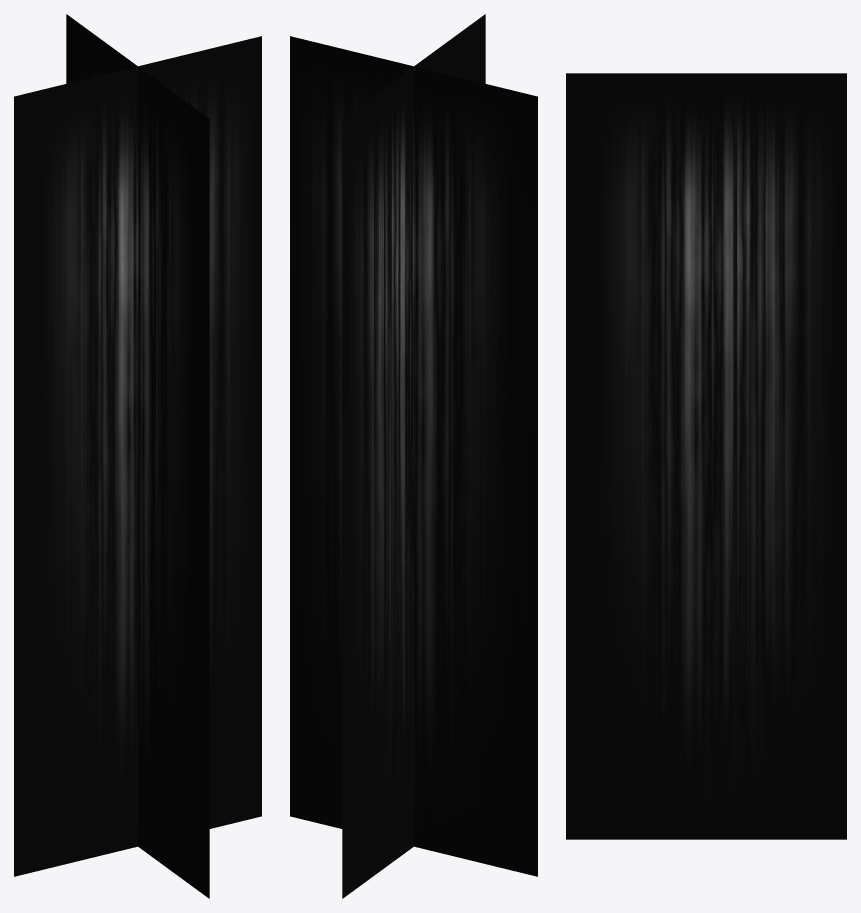
File: crosee_privt.FBX
3 renders of one model, left to right at view 1: azimuth 30°, elevation 25°; view 2: azimuth 150°, elevation 25°; view 3: azimuth 270°, elevation 25°, orthographic.
Visible parts, largest first — view 1: effect_sunshine_001; view 2: effect_sunshine_001; view 3: effect_sunshine_001.
Boxes of the visible parts, x1=… form: effect_sunshine_001: x1=14, y1=14, x2=261, y2=898; effect_sunshine_001: x1=290, y1=14, x2=537, y2=898; effect_sunshine_001: x1=566, y1=73, x2=846, y2=839.
Bounding box in the file's own units: 38.06 × 115 × 38.06.
